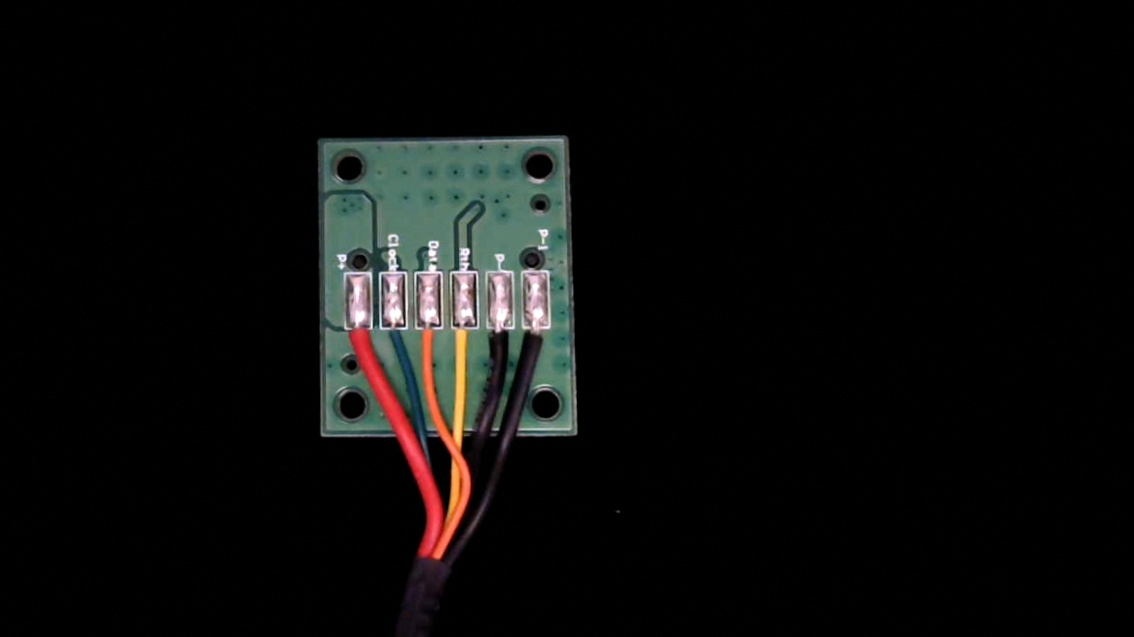Black: (483, 314, 516, 381)
Black1: (521, 313, 552, 374)
Green: (380, 311, 412, 375)
Orange: (416, 312, 446, 377)
Red: (343, 315, 375, 379)
Yellow: (450, 312, 482, 379)
